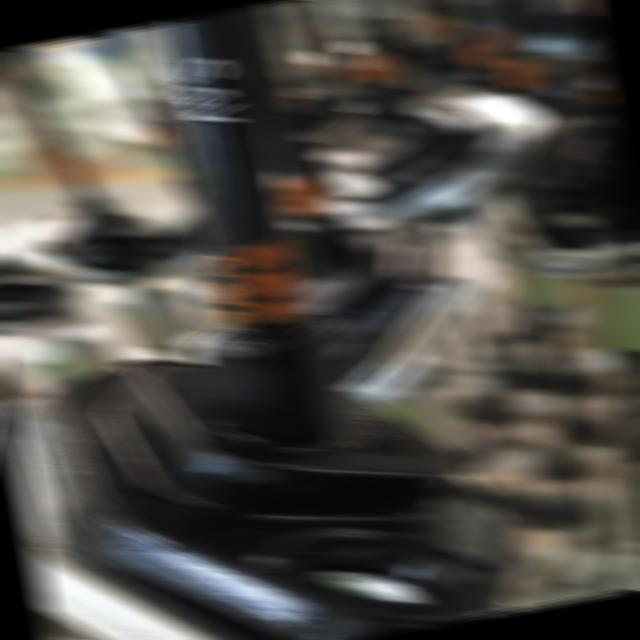orange: (204, 234, 309, 332)
